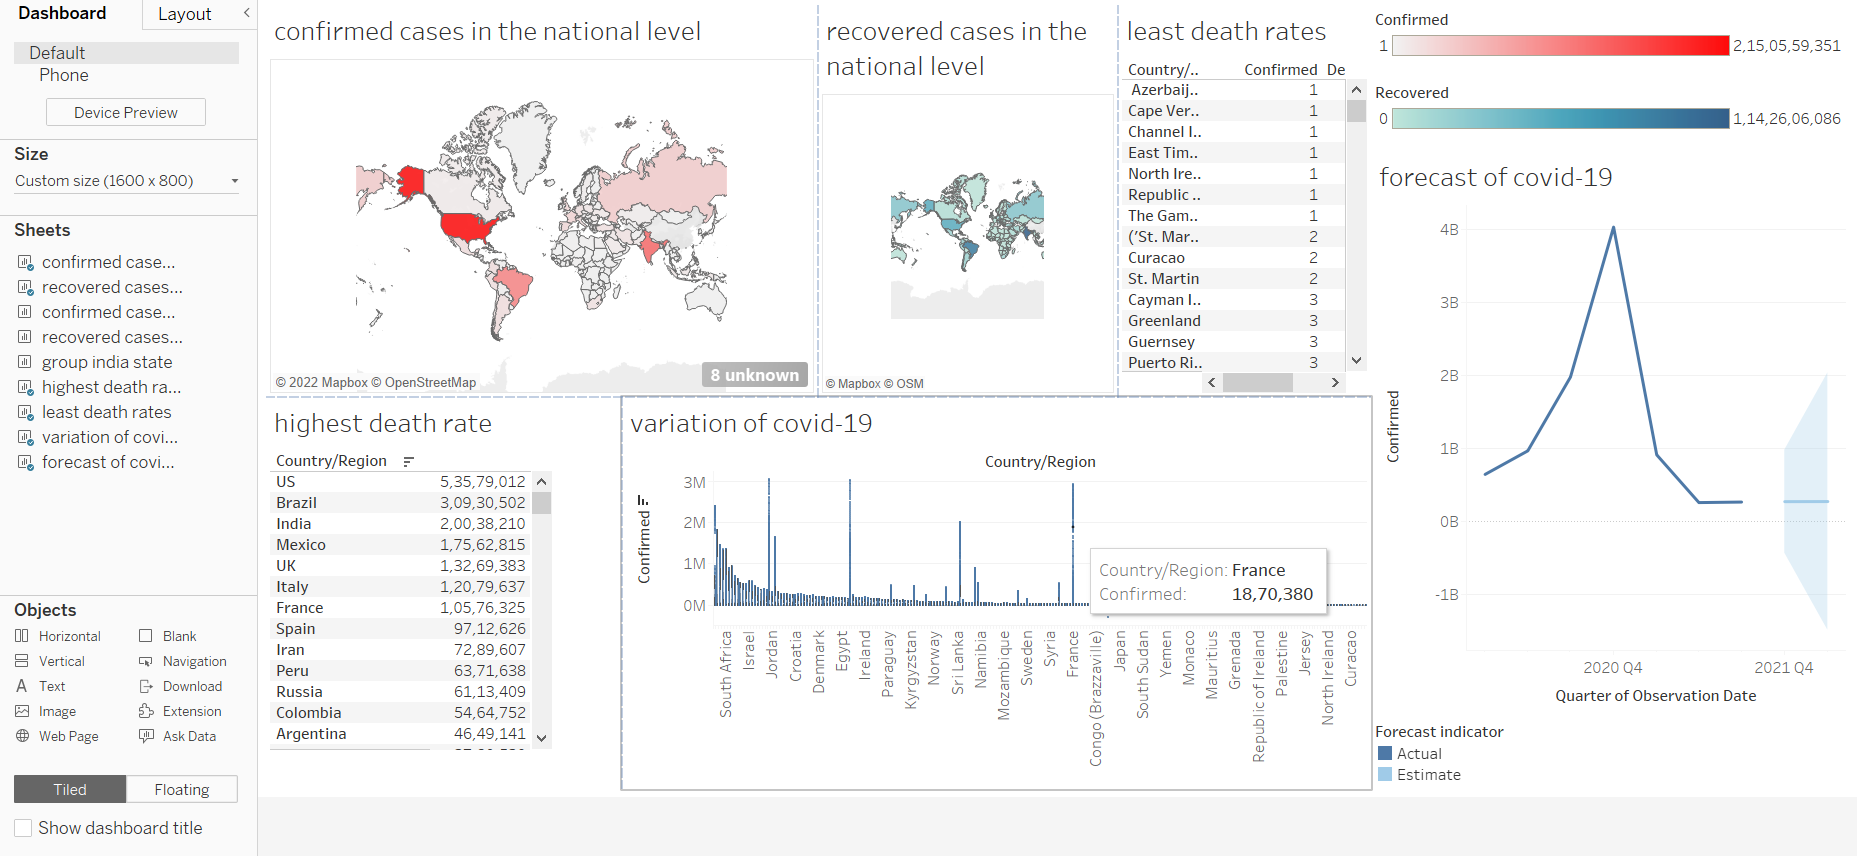

Layout of this report page (visuals, bound fields, positions):
{"tool":"tableau","page":{"name":"c-19 international dashboard","canvas":[1600,800],"ordinal":2},"visuals":[{"type":"worksheet","title":"confirmed cases in the national level","mark":"Automatic","box":[8,8,552.3,392]},{"type":"worksheet","title":"recovered cases in the national level","mark":"Automatic","box":[560.3,8,299.7,392]},{"type":"worksheet","title":"least death rates","mark":"Automatic","rows":["Country/Region"],"box":[860,8,253,392]},{"type":"legend","title":"confirmed cases in the national level","param":"[federated.0pxoebw1pfay1u1fxojug1n0hj8b].[sum:Confirmed:qk]","box":[1113,8,479,73]},{"type":"legend","title":"recovered cases in the national level","param":"[federated.0pxoebw1pfay1u1fxojug1n0hj8b].[sum:Recovered:qk]","box":[1113,81,479,73]},{"type":"worksheet","title":"forecast of covid-19","mark":"Automatic","rows":["Confirmed"],"cols":["ObservationDate"],"box":[1113,154,479,566]},{"type":"worksheet","title":"highest death rate ","mark":"Automatic","rows":["Country/Region"],"box":[8,400,355.7,392]},{"type":"worksheet","title":"variation of covid-19","mark":"Circle","rows":["Confirmed"],"cols":["Country/Region"],"box":[363.7,400,749.2,392]},{"type":"legend","title":"forecast of covid-19","param":"[federated.0pxoebw1pfay1u1fxojug1n0hj8b].[none:Forecast Indicator:nk]","box":[1113,720,479,72]}]}

Visuals, with their boxes on the page's 1600x800 design canvas (x1, y1, x2, y2). These are canvas units, not pixel positions in the 1857x856 screenshot, which may show the page scaled, cropped or inside an application window:
"confirmed cases in the national level" worksheet: x1=8 y1=8 x2=560 y2=400
"recovered cases in the national level" worksheet: x1=560 y1=8 x2=860 y2=400
"least death rates" worksheet: x1=860 y1=8 x2=1113 y2=400
"confirmed cases in the national level" legend: x1=1113 y1=8 x2=1592 y2=81
"recovered cases in the national level" legend: x1=1113 y1=81 x2=1592 y2=154
"forecast of covid-19" worksheet: x1=1113 y1=154 x2=1592 y2=720
"highest death rate " worksheet: x1=8 y1=400 x2=364 y2=792
"variation of covid-19" worksheet (Circle marks): x1=364 y1=400 x2=1113 y2=792
"forecast of covid-19" legend: x1=1113 y1=720 x2=1592 y2=792
